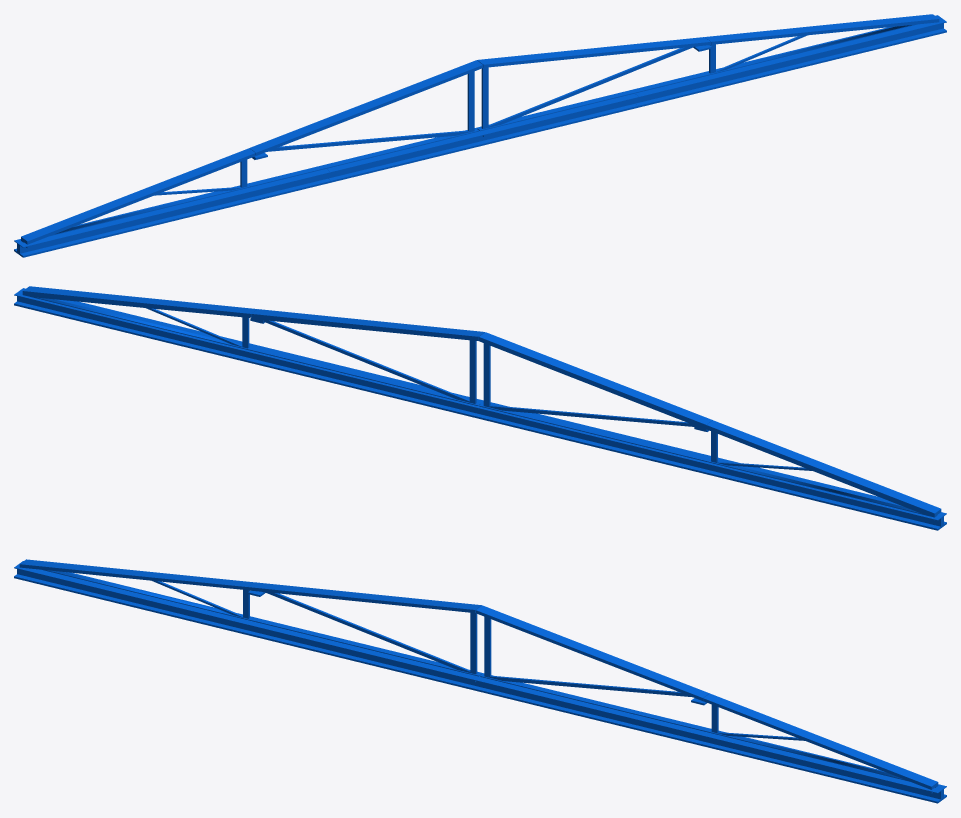
The model's file is Warehouse_03_Metal_03.fbx.
3 renders of one model, top to bottom at view 1: azimuth 30°, elevation 25°; view 2: azimuth 150°, elevation 25°; view 3: azimuth 330°, elevation 25°, orthographic.
Visible parts, largest first — view 1: Warehouse_03_Metal_03; view 2: Warehouse_03_Metal_03; view 3: Warehouse_03_Metal_03.
Part boxes in pixels (x1=…): Warehouse_03_Metal_03: x1=14, y1=14, x2=946, y2=257; Warehouse_03_Metal_03: x1=14, y1=286, x2=946, y2=530; Warehouse_03_Metal_03: x1=14, y1=559, x2=946, y2=803.
Bounding box in the file's own units: 1624 × 134 × 28.01.
